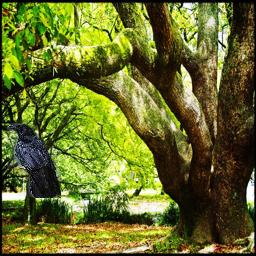Crow: (7, 124, 61, 199)
